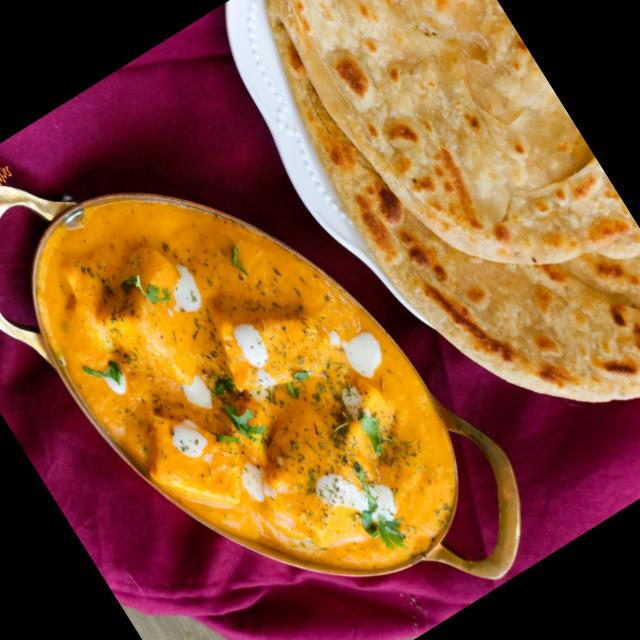roti: (283, 0, 640, 367)
